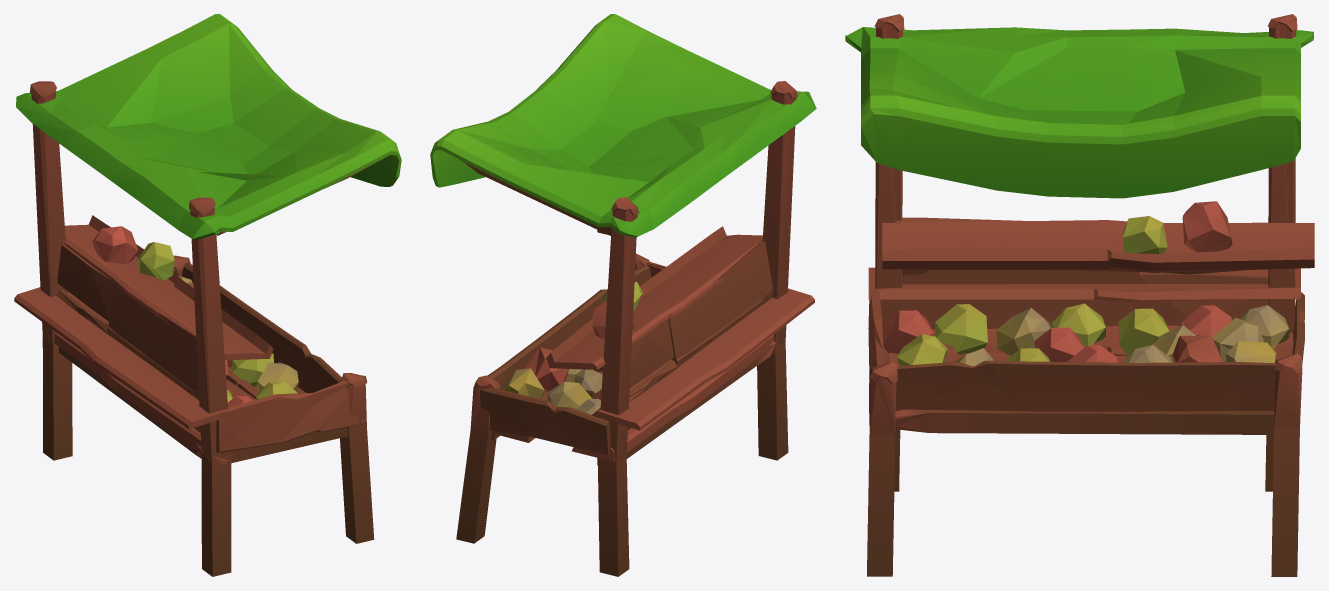
The model's file is marketstand_green.glb.
3 views of the same model, side by side, from view 1: azimuth 30°, elevation 25°; view 2: azimuth 150°, elevation 25°; view 3: azimuth 270°, elevation 25° (orthographic). The views are drawn at different scales.
Parts seen in each view (by area): view 1: MarketStand_Green_mesh1; view 2: MarketStand_Green_mesh1; view 3: MarketStand_Green_mesh1.
Boxes of the visible parts, x1=… form: MarketStand_Green_mesh1: x1=14, y1=14, x2=401, y2=576; MarketStand_Green_mesh1: x1=430, y1=14, x2=816, y2=576; MarketStand_Green_mesh1: x1=845, y1=14, x2=1314, y2=576.
Size of the model in its own units: 1.89 by 3.35 by 2.91.
1 material, 1 textured.
